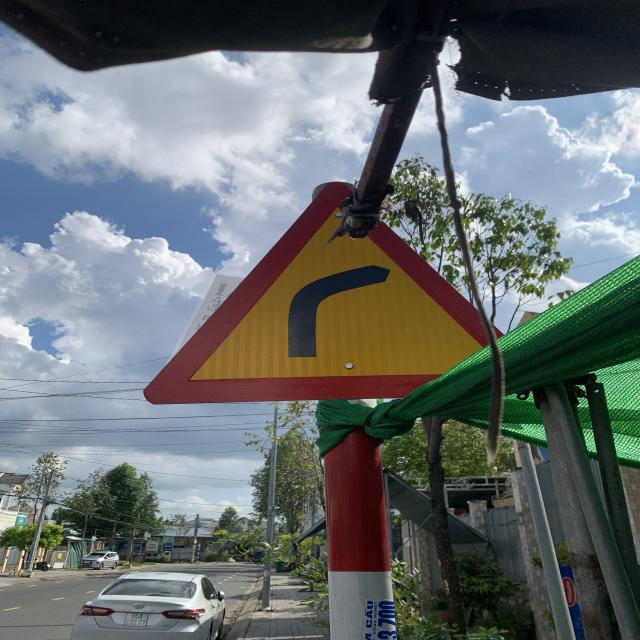Duong_Nguoi_Di_Bo_Cat_Ngang: (146, 180, 524, 405)
